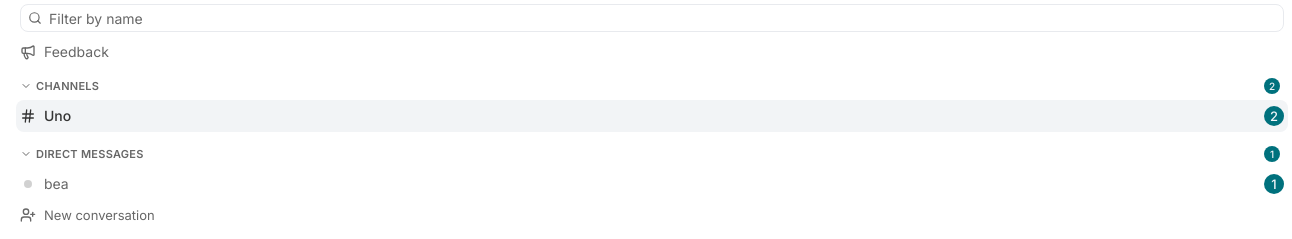
Test: el panel de Comunicación › el filtro recorre las dos secciones, y dice cuando no hay nada
Expected: the button "bea 1" is shown, [20,168,1284,200]
Step 1. Type "bea" into the search field labelled "Filter by name" → (652, 18), box [20,4,1284,32]
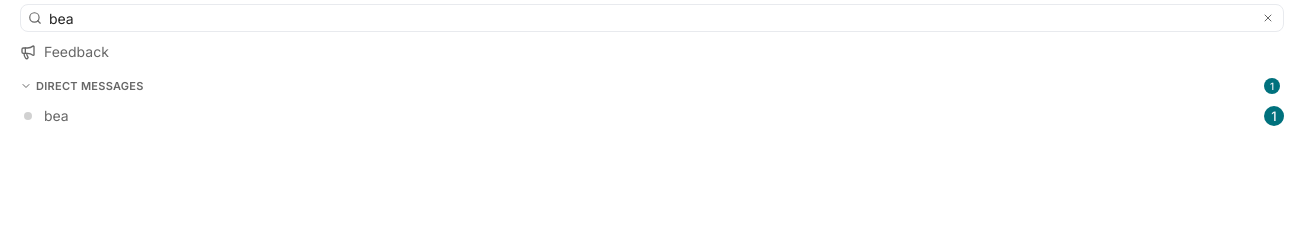
Expected: the button "bea 1" is shown, [20,100,1284,132]
Now the button "Uno" is gone
Step 2. Replace the text in the search field named "Filter by name" with "zzz" → (652, 18), box [20,4,1284,32]
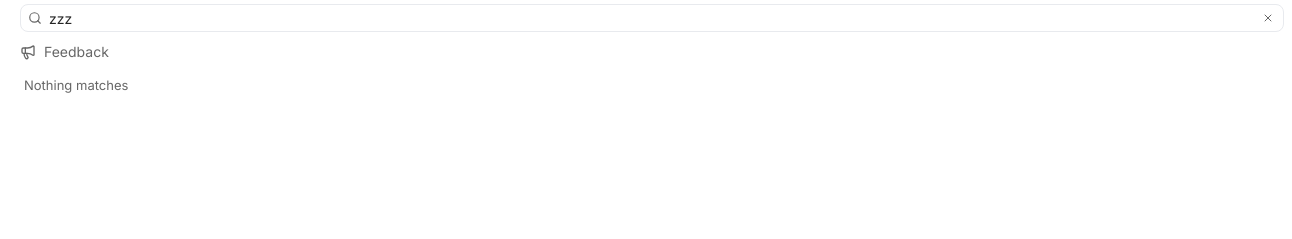
Now the text "Nothing matches" is shown, box [24,77,128,93]
